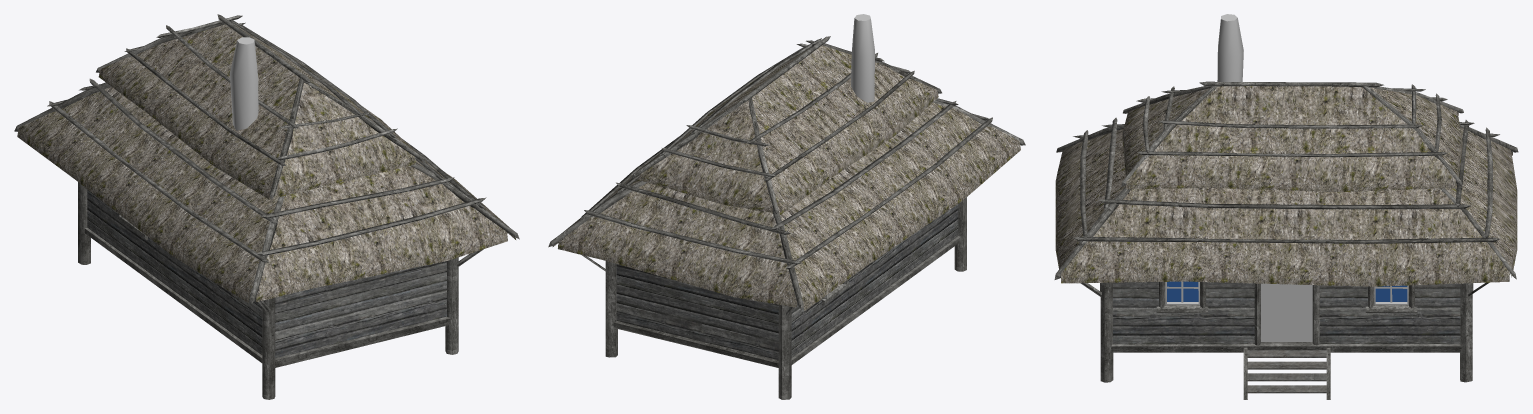
Rendered from mw_type_3_cottage_01_LOD1.FBX.
3 renders of one model, left to right at view 1: azimuth 30°, elevation 25°; view 2: azimuth 150°, elevation 25°; view 3: azimuth 270°, elevation 25°, orthographic. The views are drawn at different scales.
Parts seen in each view (by area): view 1: mw_type_3_cottage_01_roof, mw_type_3_cottage_01_wood, mw_type_3_cottage_01; view 2: mw_type_3_cottage_01_roof, mw_type_3_cottage_01_wood, mw_type_3_cottage_01; view 3: mw_type_3_cottage_01_roof, mw_type_3_cottage_01_wood, mw_type_3_cottage_01.
Boxes of the visible parts, x1,y1,x2,y2 form: mw_type_3_cottage_01_roof: [17, 24, 515, 303]; mw_type_3_cottage_01_wood: [14, 14, 519, 399]; mw_type_3_cottage_01: [229, 37, 258, 130]; mw_type_3_cottage_01_roof: [552, 45, 1020, 310]; mw_type_3_cottage_01_wood: [548, 36, 1025, 399]; mw_type_3_cottage_01: [851, 14, 874, 102]; mw_type_3_cottage_01_roof: [1055, 86, 1517, 286]; mw_type_3_cottage_01_wood: [1054, 81, 1518, 399]; mw_type_3_cottage_01: [1165, 14, 1408, 341].
Size of the model in its own units: 986 by 1020 by 1459.
